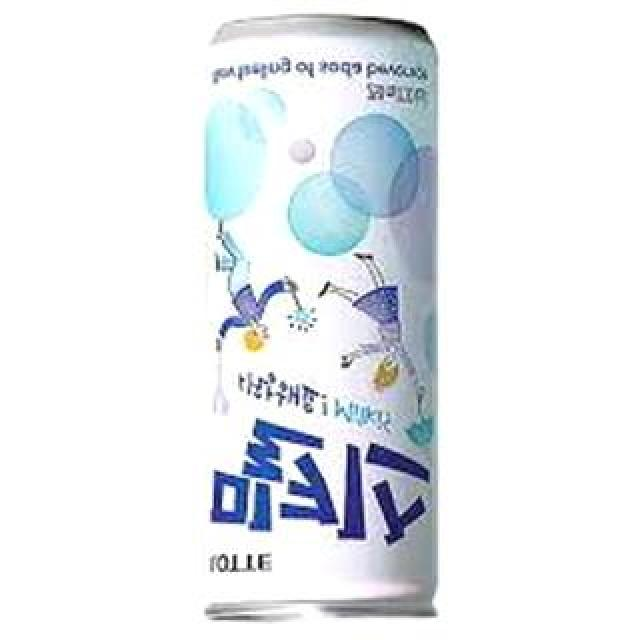Can: (193, 15, 455, 633)
